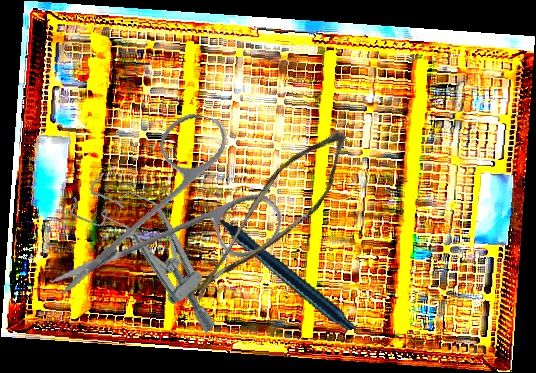Handpiece: (201, 170, 358, 358)
Iris Scissors: (49, 91, 301, 338)
Micro Scissor: (187, 108, 358, 331)
Speculum: (64, 159, 245, 344)
